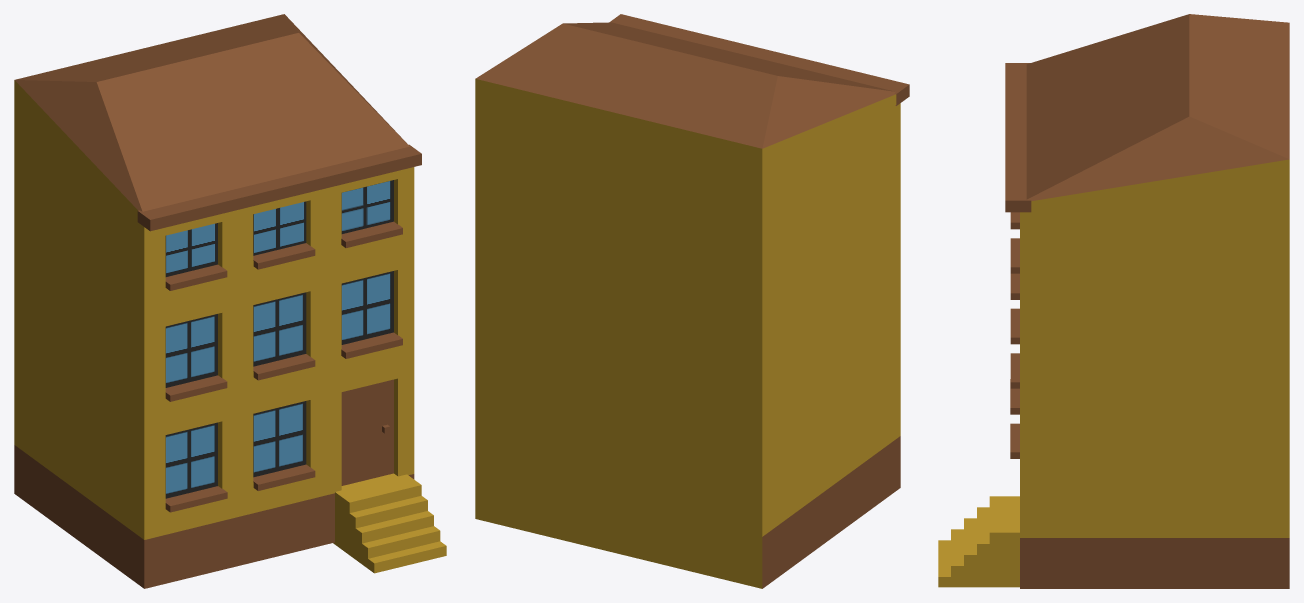
File: JazzNormal4.obj
3 views of the same model, side by side, from view 1: azimuth 30°, elevation 25°; view 2: azimuth 150°, elevation 25°; view 3: azimuth 270°, elevation 25° (orthographic). The views are drawn at different scales.
Parts seen in each view (by area): view 1: ZwyklyZwykly.003; view 2: ZwyklyZwykly.003; view 3: ZwyklyZwykly.003.
Boxes of the visible parts, x1,y1,x2,y2 form: ZwyklyZwykly.003: [14, 14, 446, 588]; ZwyklyZwykly.003: [475, 14, 909, 588]; ZwyklyZwykly.003: [938, 14, 1289, 588].
Size of the model in its own units: 6.04 by 9.37 by 6.52.
